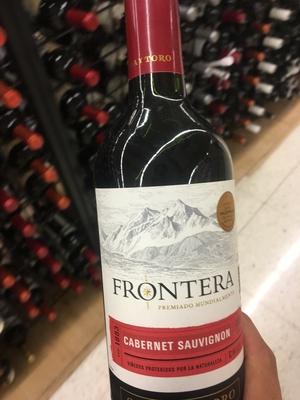frontera cabernet sauvignon: (86, 3, 261, 396)
